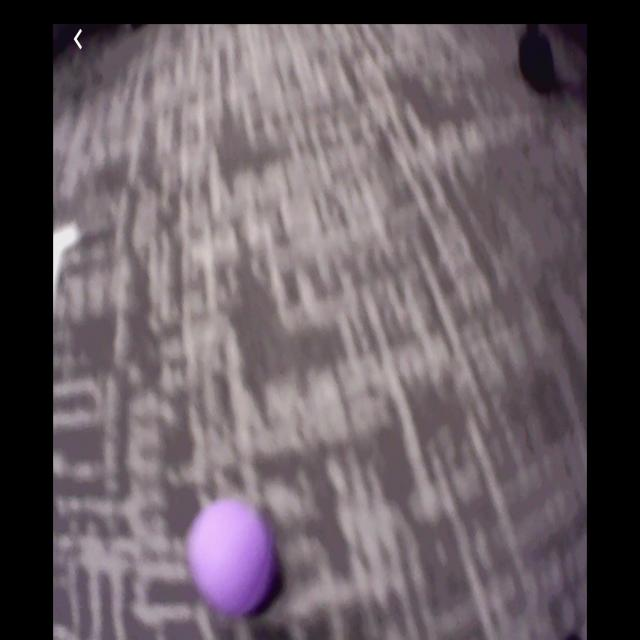ball: (191, 499, 271, 613)
